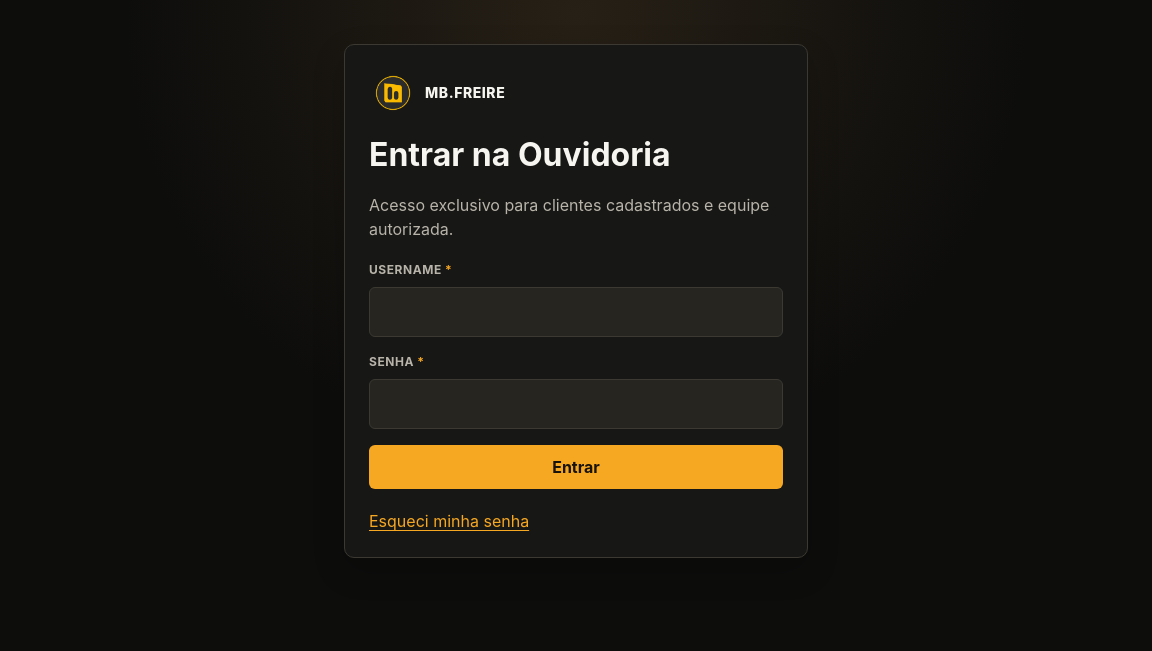
Test case: envia somente os quatro campos do DTO como JSON, mostra protocolo e invalida lista/dashboard
Type "cliente" into the field labelled "Username". click: (576, 312)
box: [369, 287, 783, 337]
Type "senha-correta" into the password field labelled "Senha *". click: (576, 404)
box: [369, 379, 783, 429]
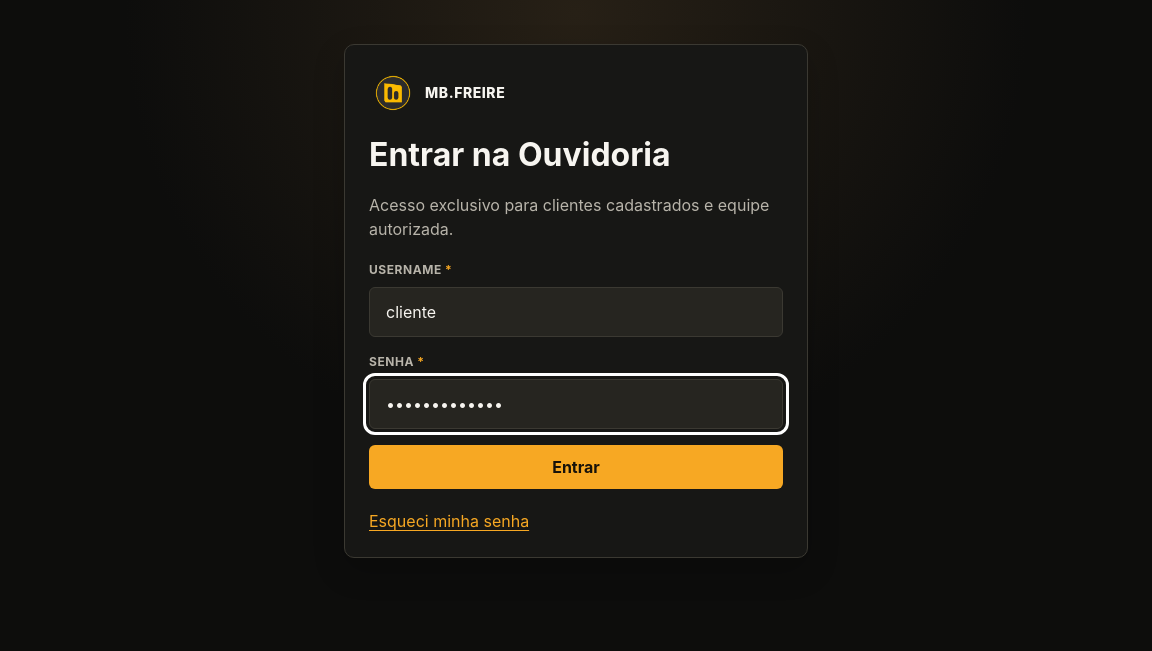
Click the button "Entrar". click: (576, 467)
box: [369, 445, 783, 489]
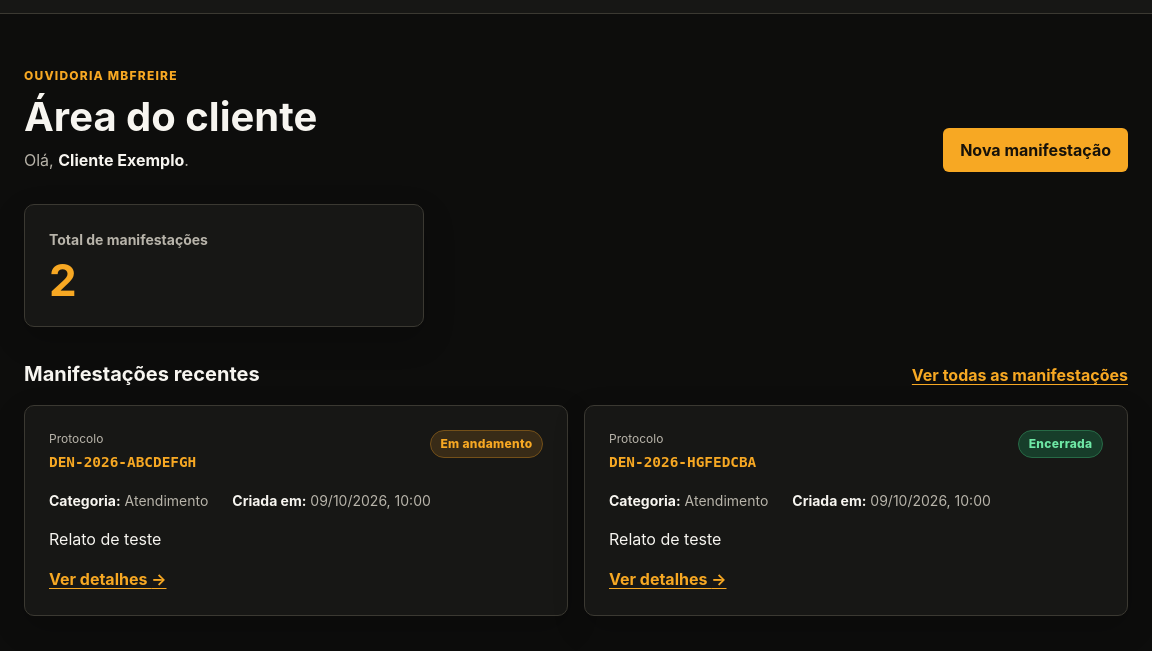
Click the link "Nova manifestação". click: (1036, 150)
box: [943, 128, 1128, 172]
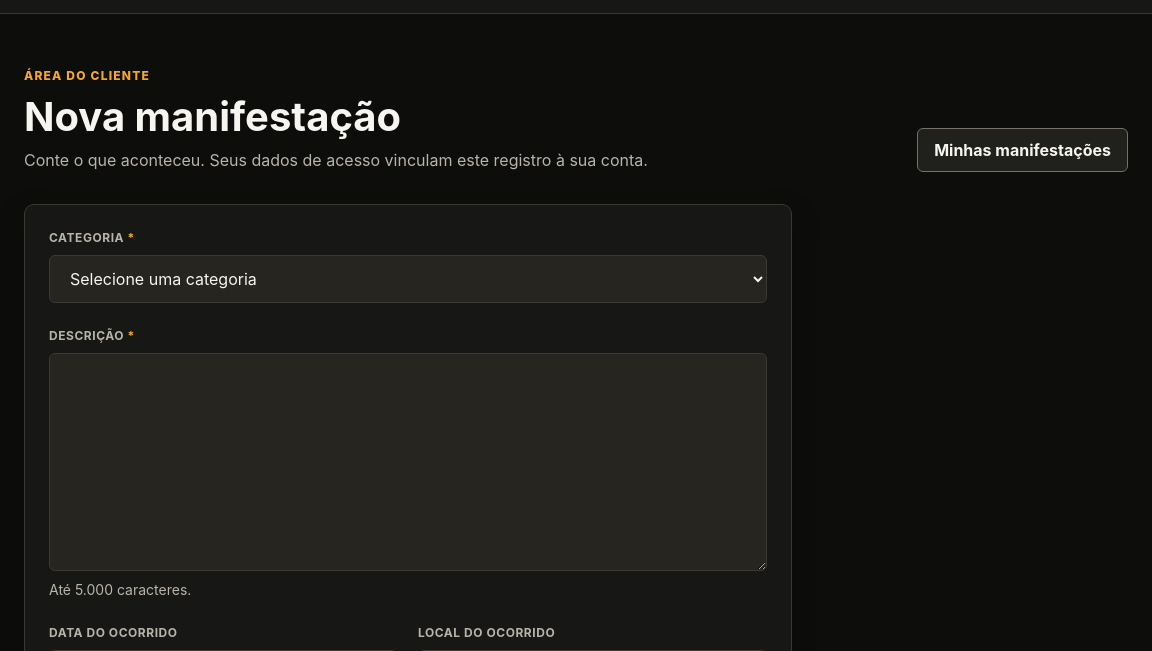
Check: the dropdown labelled "Categoria" is shown
Select "Atendimento" in the dropdown labelled "Categoria". click: (408, 279)
box: [49, 255, 767, 303]
Type "  Relato do atendimento  " into the text box labelled "Descrição". click: (408, 462)
box: [49, 353, 767, 571]
(page scrolled)
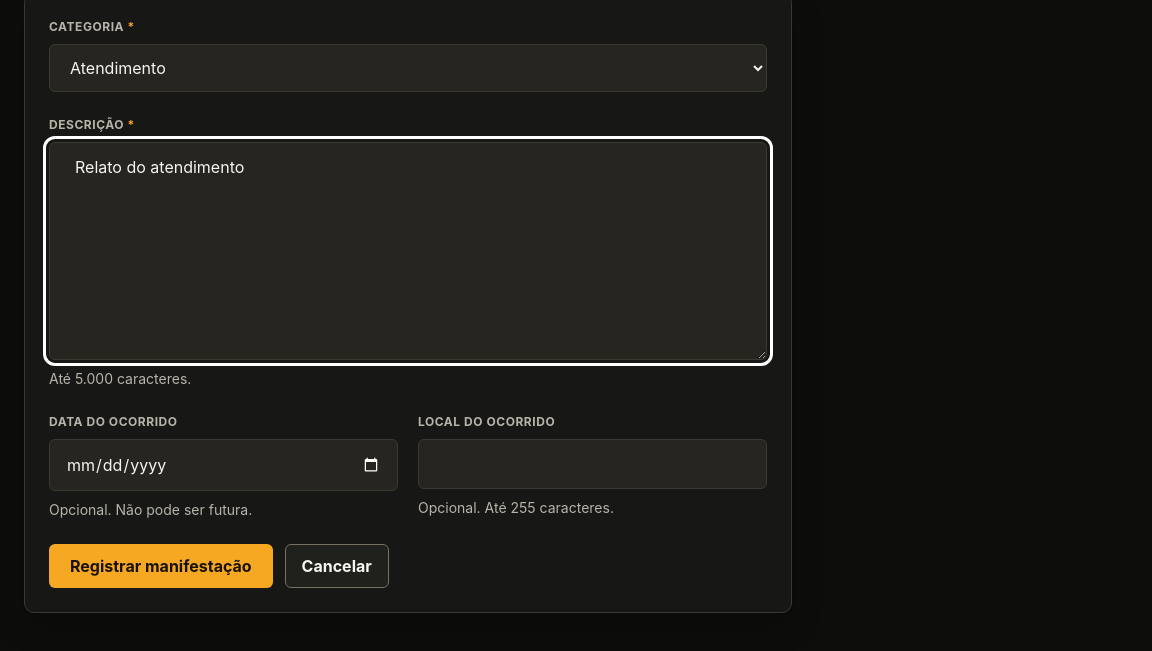
Type "  Escritório  " into the field labelled "Local do ocorrido". click: (592, 464)
box: [418, 439, 767, 489]
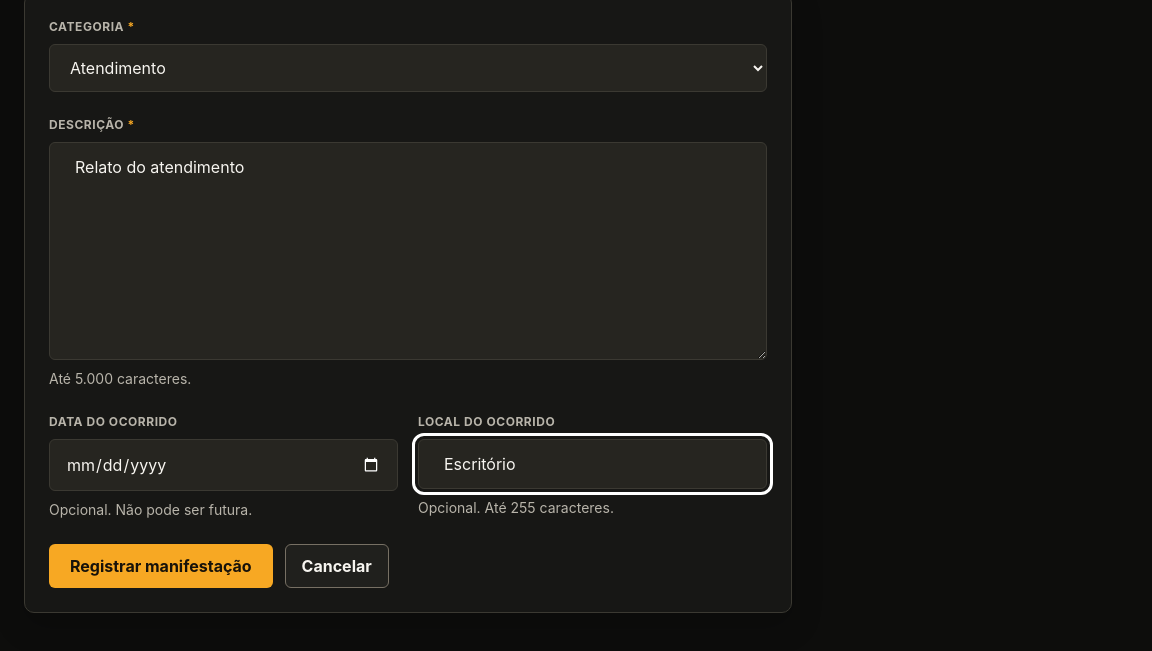
Click the button "Registrar manifestação". click: (161, 566)
box: [49, 544, 273, 588]
(page scrolled)
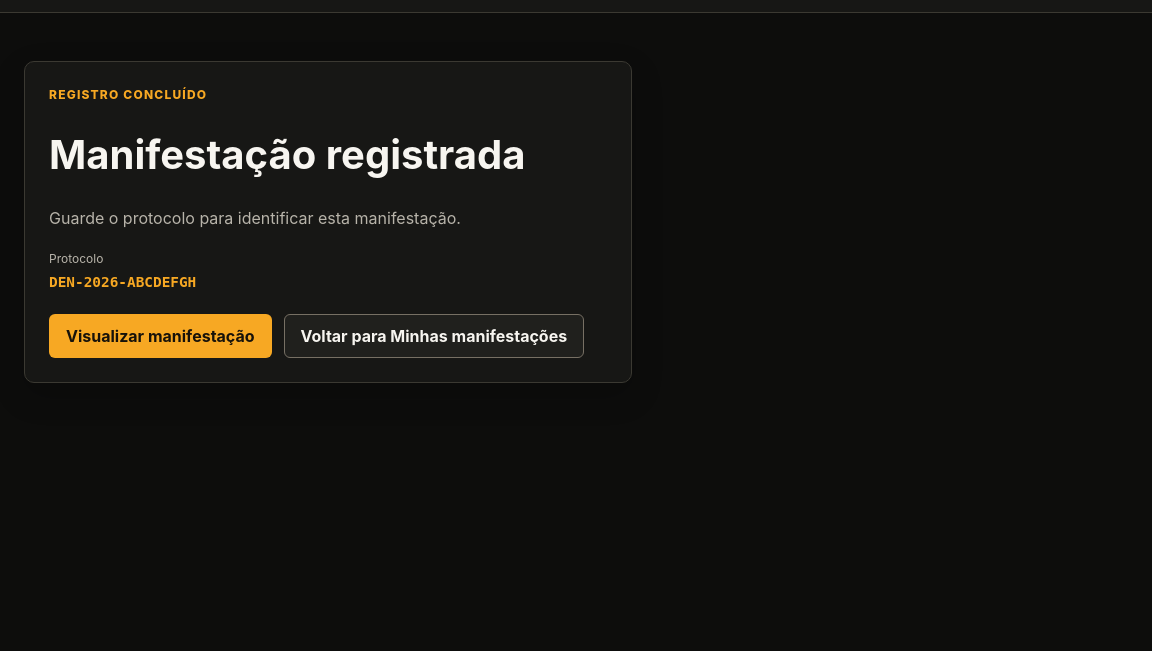
Check: the heading "Manifestação registrada" is shown, box [49, 132, 607, 178]
Check: the text "DEN-2026-ABCDEFGH" is shown, box [49, 274, 196, 290]
